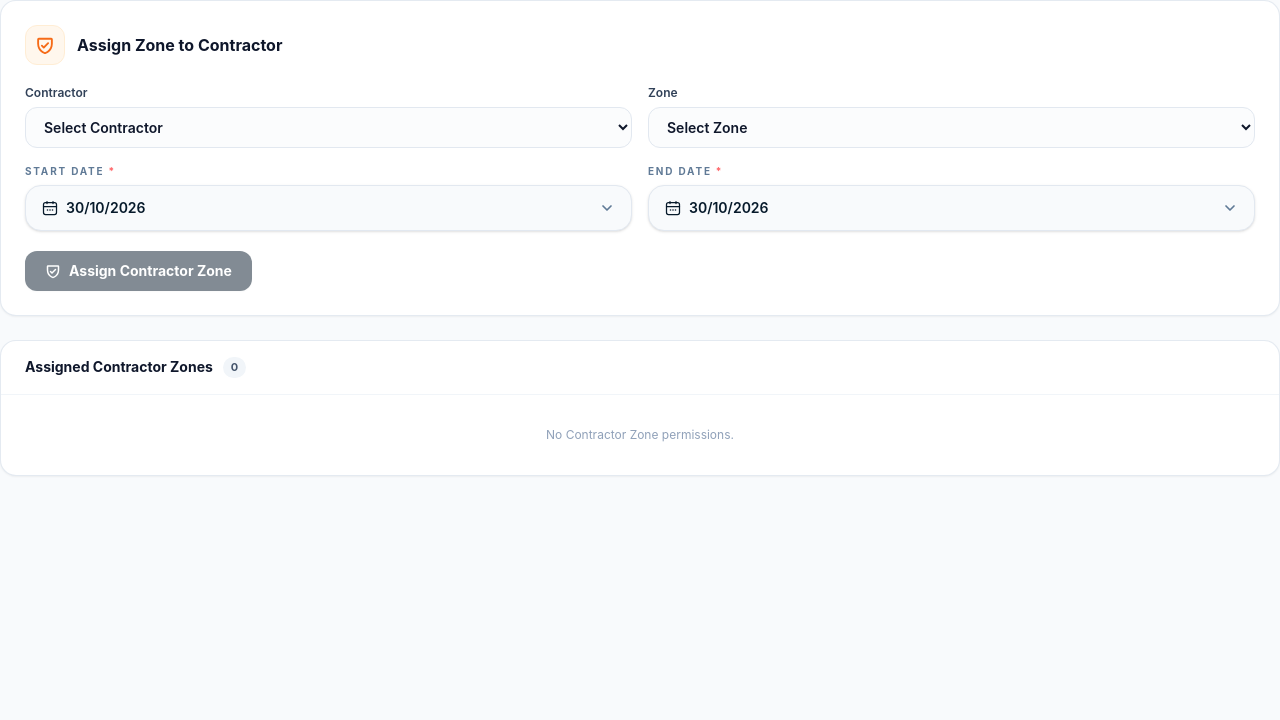
Test: retains the request ID when a failed permission assignment is retried
Step 1. Select "Contractor" in the dropdown labelled "Contractor" → [328, 128], box [25,107,632,148]
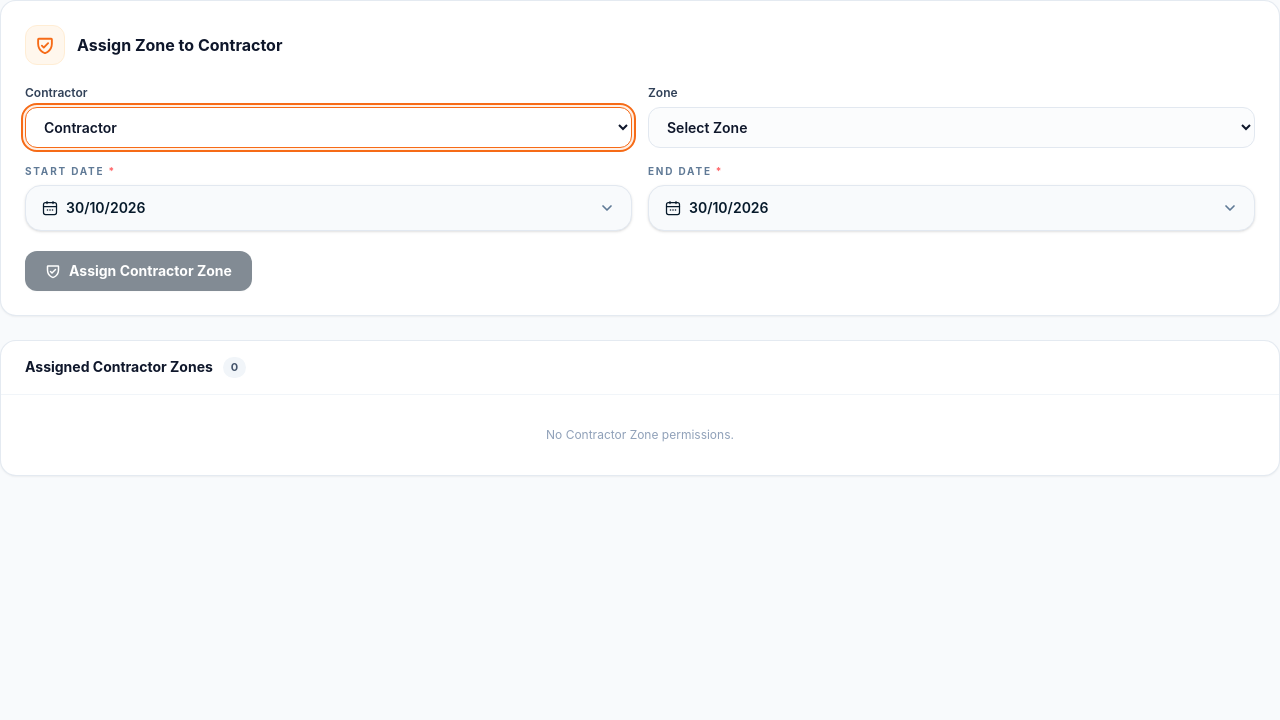
Step 2. Select "Work area" in the dropdown labelled "Zone" → [952, 128], box [648,107,1255,148]
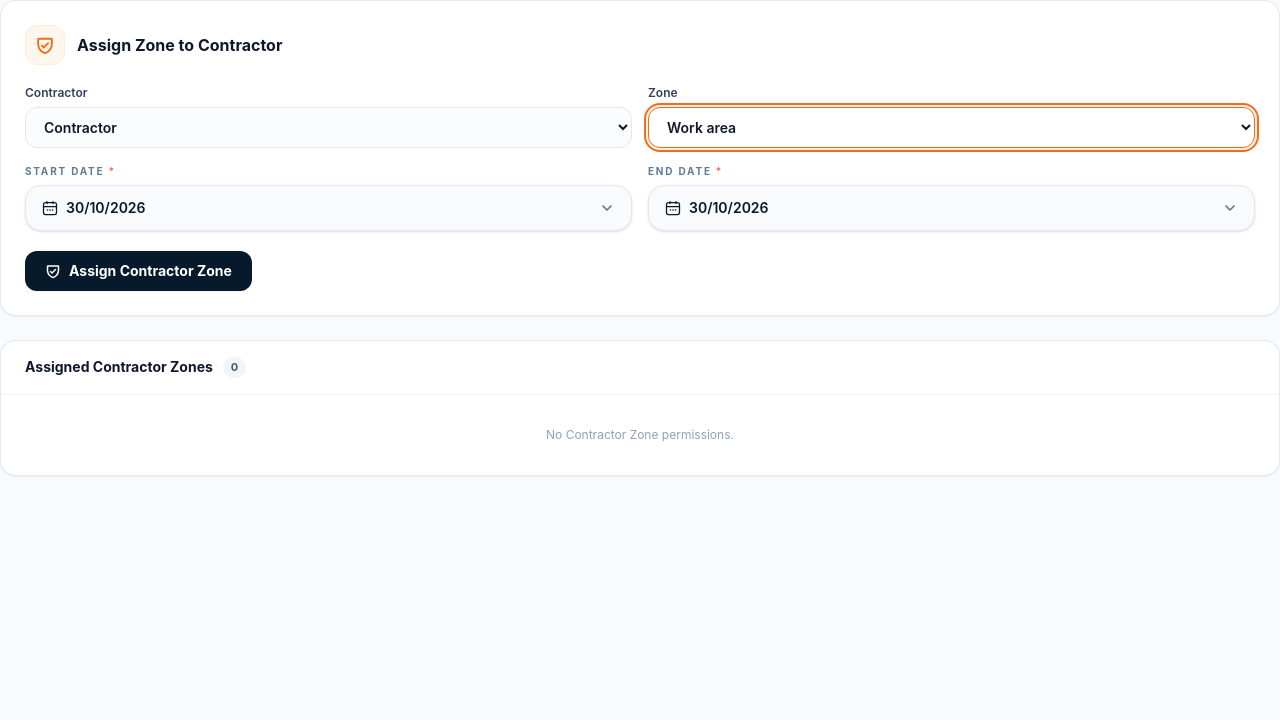
Step 3. Click the button "Assign Contractor Zone" → [138, 271], box [25,251,252,291]
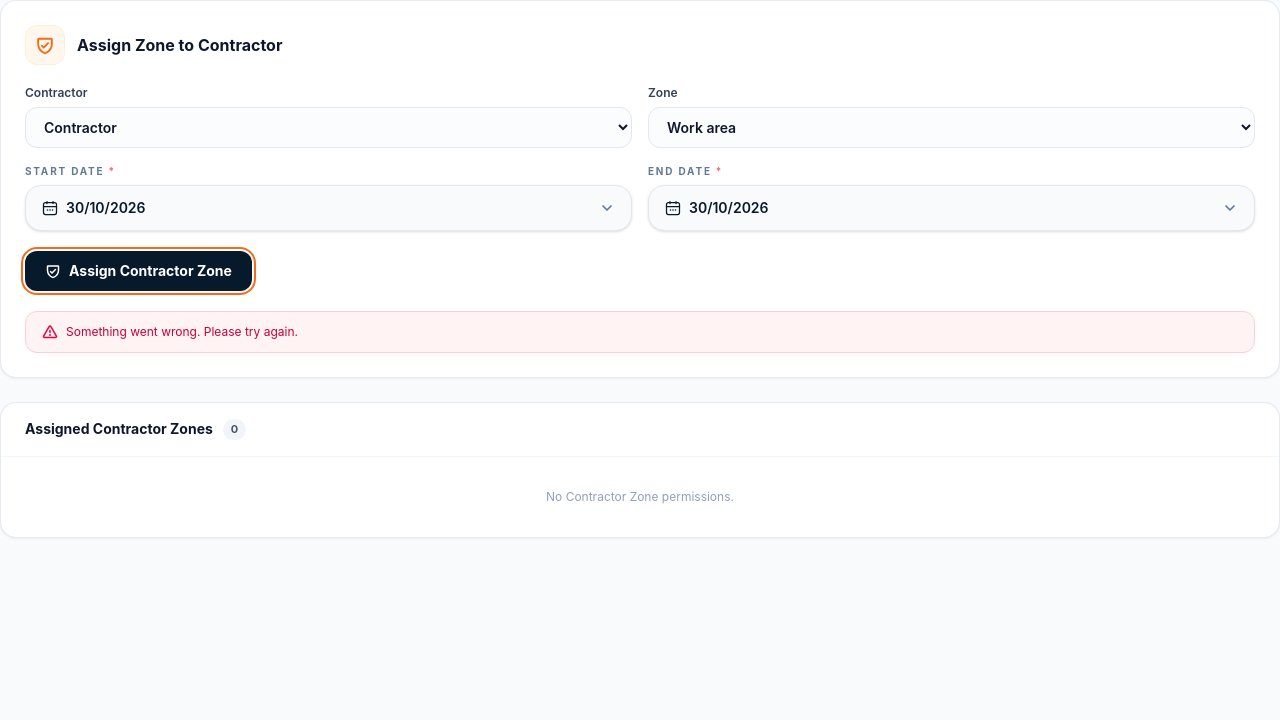
Result: the text "Something went wrong. Please try again." is shown at [66,324,298,340]
Step 4. Click the button "Assign Contractor Zone" → [138, 271], box [25,251,252,291]
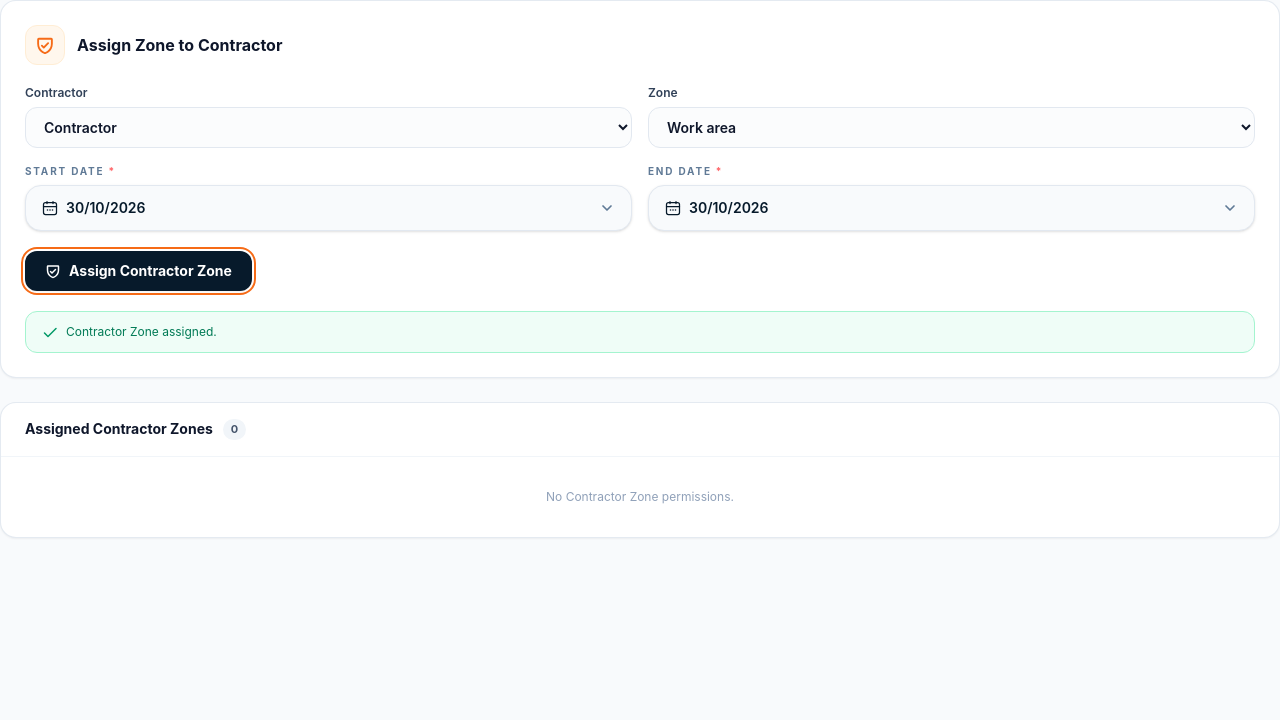
Result: the text "Contractor Zone assigned." is shown at [66,324,217,340]
